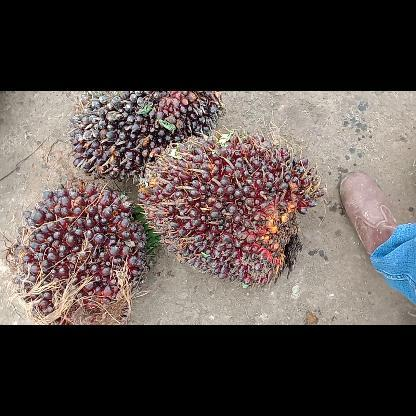Kurang masak: (140, 131, 326, 289), (8, 178, 150, 324)
TBS mentah: (66, 91, 222, 181)
